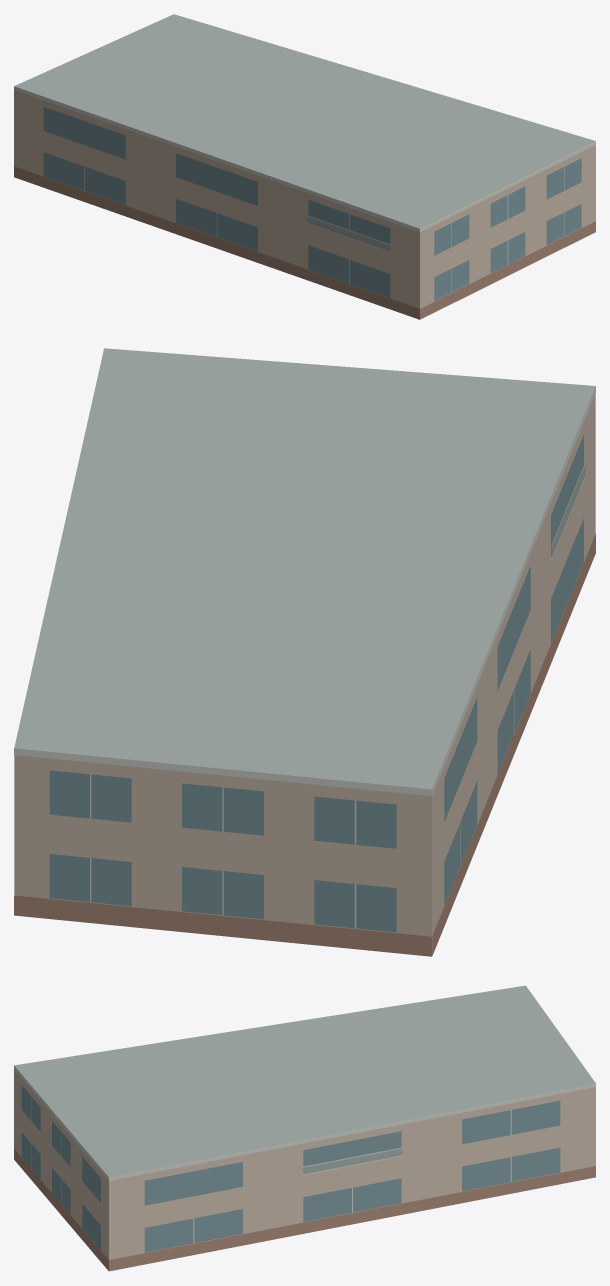
The model's file is survey-upis-32812264.glb.
3 views of the same model, one above another, from view 1: azimuth 30°, elevation 25°; view 2: azimuth 150°, elevation 25°; view 3: azimuth 270°, elevation 25° (orthographic). The views are drawn at different scales.
Parts seen in each view (by area): view 1: survey-upis-32812264.tmp; view 2: survey-upis-32812264.tmp; view 3: survey-upis-32812264.tmp.
Part boxes in pixels (bbox=[...]): survey-upis-32812264.tmp: bbox=[14, 14, 595, 319]; survey-upis-32812264.tmp: bbox=[14, 348, 595, 956]; survey-upis-32812264.tmp: bbox=[14, 985, 595, 1271].
Bounding box in the file's own units: 26.67 × 6.1 × 34.18.
